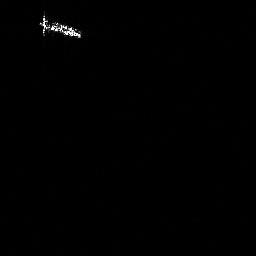ship: (37, 12, 84, 41)
